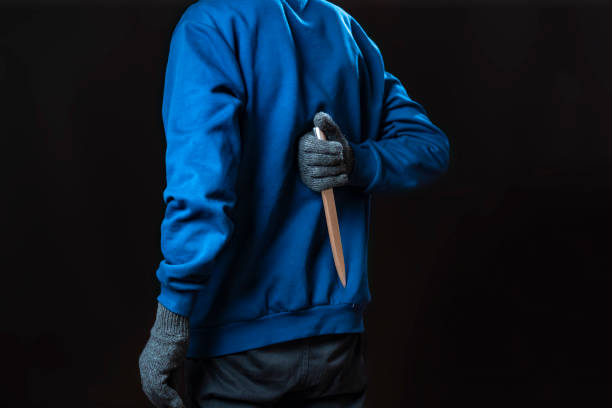knife: (307, 122, 351, 290)
